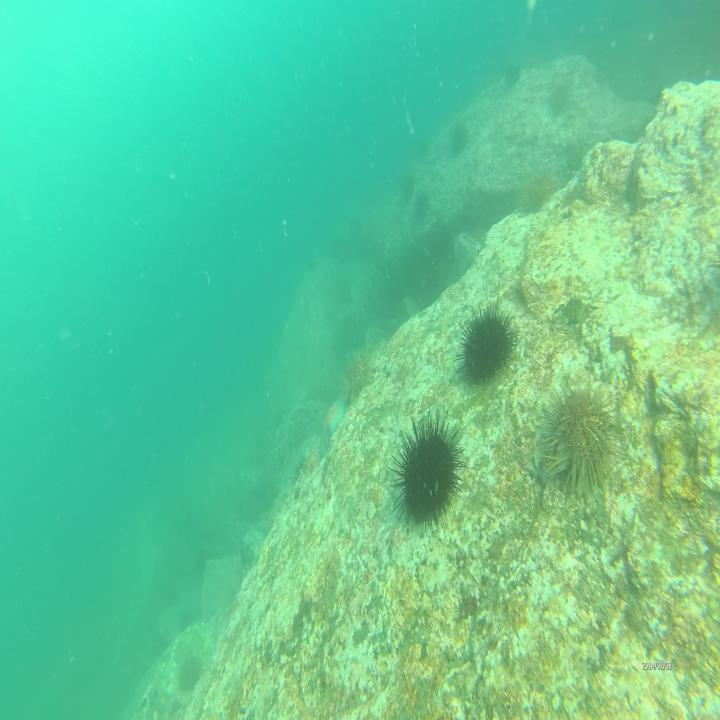echinus: (390, 403, 468, 533), (540, 382, 614, 500), (456, 294, 520, 395), (344, 345, 376, 405), (524, 173, 558, 217), (176, 649, 206, 695), (450, 120, 470, 159), (546, 87, 573, 115), (504, 55, 524, 91), (400, 167, 417, 202), (416, 192, 431, 222)
starfish: (319, 398, 348, 465)
